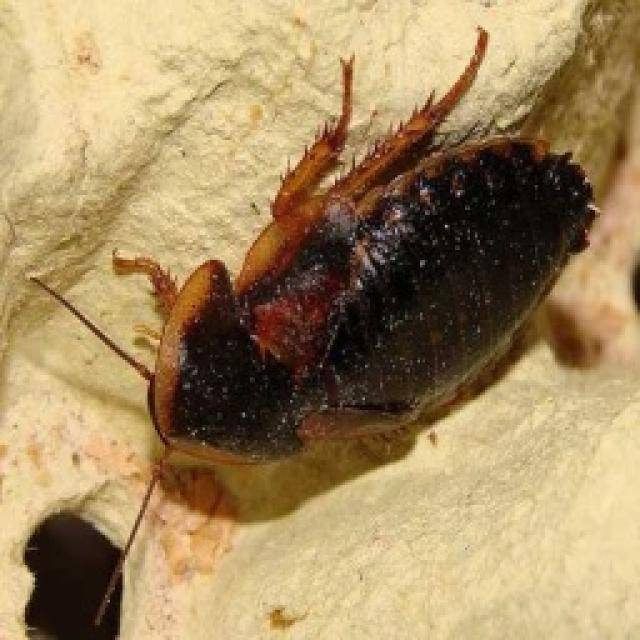cockroach: (117, 62, 602, 482)
